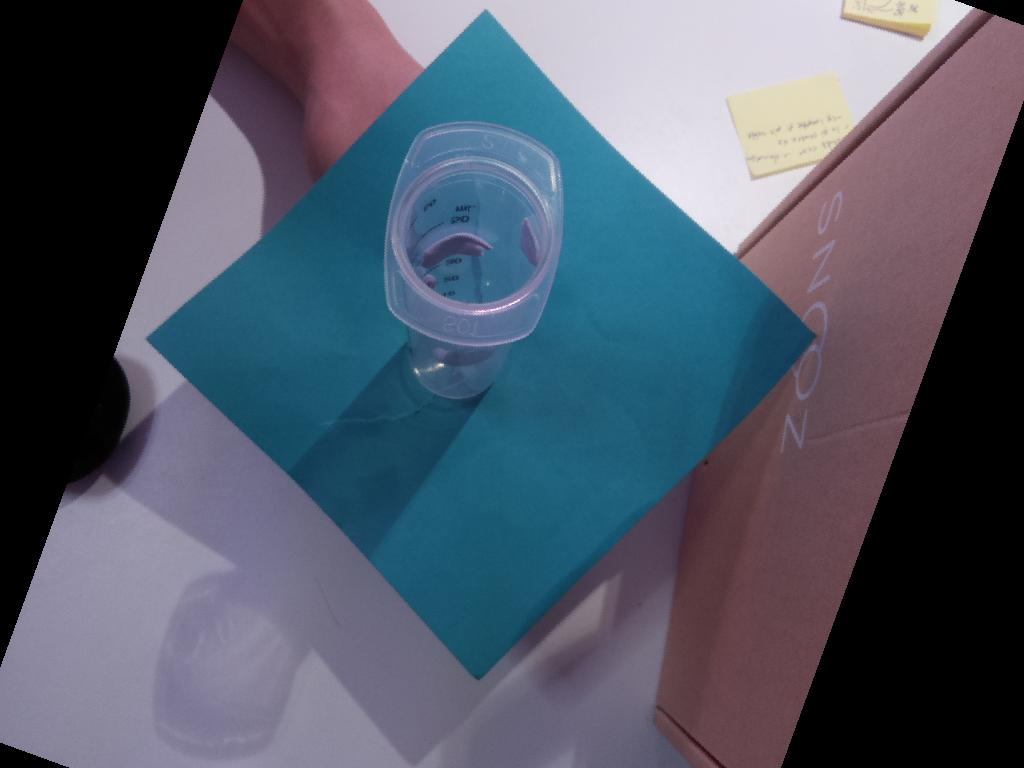dirty: (384, 122, 565, 347)
